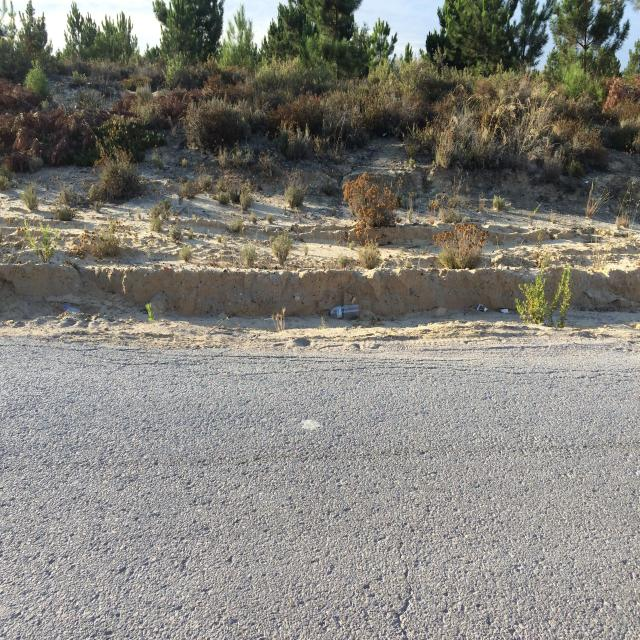Clear plastic bottle: (328, 304, 359, 319), (63, 305, 82, 313)
Other plastic: (477, 304, 488, 312)
Unlabeled litter: (499, 309, 509, 313)
